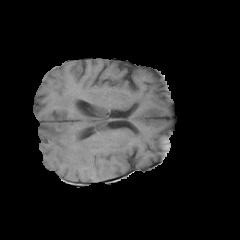glioma: (38, 97, 140, 181)
